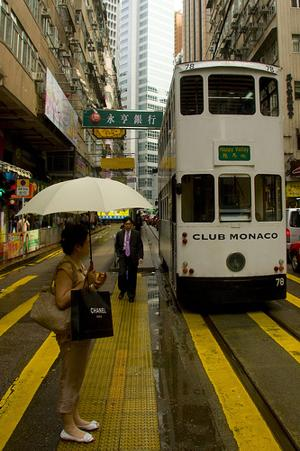person: (51, 218, 108, 442)
